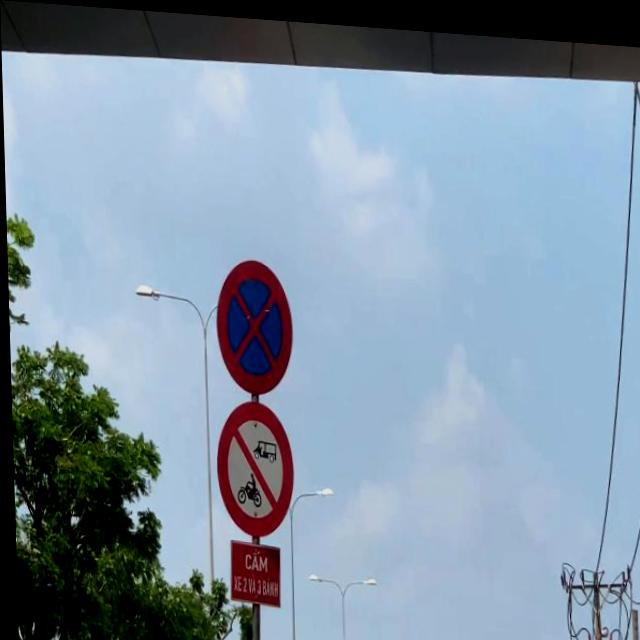Cam dung xe va do xe: (211, 250, 294, 395)
